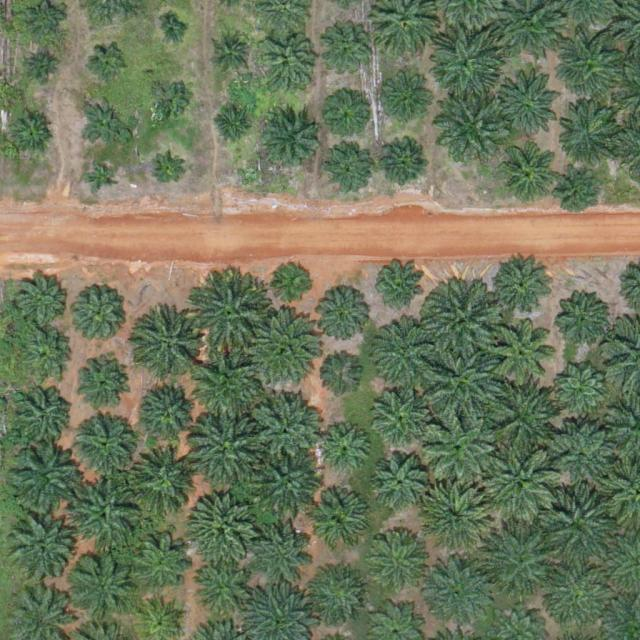Healthy: (486, 445, 564, 524), (423, 282, 501, 361), (192, 279, 270, 358), (426, 341, 504, 419), (419, 484, 490, 555), (254, 314, 325, 385), (186, 491, 257, 562), (542, 489, 612, 560), (489, 382, 559, 453), (426, 412, 497, 482), (421, 560, 491, 631), (372, 317, 443, 387), (188, 416, 258, 487), (122, 529, 193, 599), (127, 447, 197, 518), (67, 550, 137, 621), (9, 445, 79, 516), (555, 26, 625, 97), (431, 27, 501, 98), (436, 90, 507, 160), (541, 562, 611, 632), (488, 528, 558, 598), (254, 448, 324, 518), (251, 394, 321, 464), (194, 353, 264, 423), (71, 482, 141, 552), (494, 75, 564, 145), (492, 256, 555, 319), (140, 380, 203, 443), (552, 424, 614, 487), (494, 326, 556, 389), (253, 515, 315, 578), (137, 316, 200, 378), (68, 283, 130, 346), (8, 519, 70, 582), (11, 384, 73, 447), (559, 101, 621, 164), (259, 109, 321, 172), (309, 491, 371, 553), (76, 414, 138, 476), (373, 533, 428, 588), (372, 389, 427, 444), (315, 290, 370, 345), (316, 423, 371, 478), (190, 563, 245, 618), (73, 355, 128, 410), (22, 327, 77, 382), (499, 145, 554, 200), (261, 38, 316, 93), (373, 454, 427, 509), (312, 567, 366, 622), (15, 275, 69, 330), (377, 71, 431, 126), (326, 145, 373, 193), (560, 297, 607, 344), (559, 370, 606, 417), (382, 143, 429, 190), (324, 32, 371, 79)
Small: (372, 261, 427, 316), (316, 355, 363, 403), (9, 111, 56, 158), (81, 99, 128, 146), (324, 97, 364, 137), (214, 108, 254, 148), (148, 80, 188, 120), (91, 44, 130, 84), (558, 170, 597, 210), (275, 263, 314, 302), (153, 157, 184, 189), (30, 50, 61, 82), (86, 162, 117, 194), (216, 37, 247, 68), (162, 20, 185, 44)
